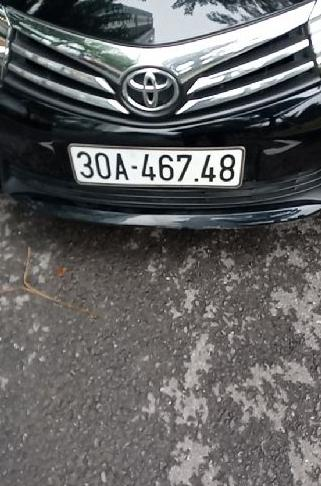Plate-iWeP: (70, 147, 246, 189)
